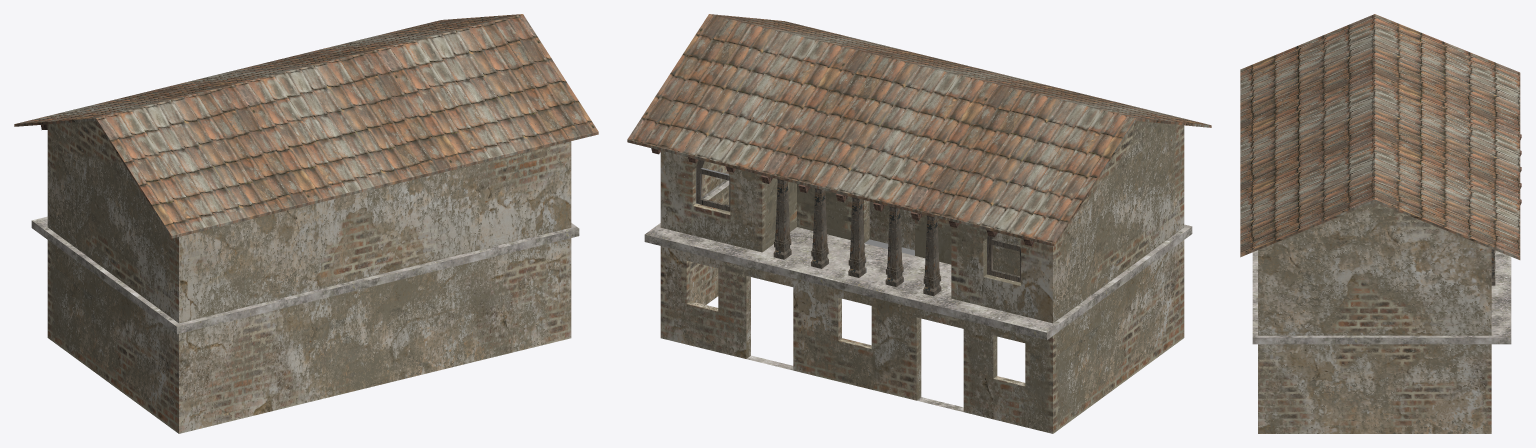
File: old_village_house_-_indian_game_asset.glb
The picture shows the model from 3 angles, left to right: view 1: azimuth 30°, elevation 25°; view 2: azimuth 150°, elevation 25°; view 3: azimuth 270°, elevation 25°; orthographic projection. The views are drawn at different scales.
Parts seen in each view (by area): view 1: Cube.003; view 2: Cube.003; view 3: Cube.003.
Part boxes in pixels (left/top/right/bottom): Cube.003: left=14, top=14, right=598, bottom=433; Cube.003: left=627, top=14, right=1211, bottom=433; Cube.003: left=1240, top=14, right=1521, bottom=433.
Bounding box in the file's own units: 8.37 × 5.09 × 5.37.
Materials: 1 (1 with a texture image).
